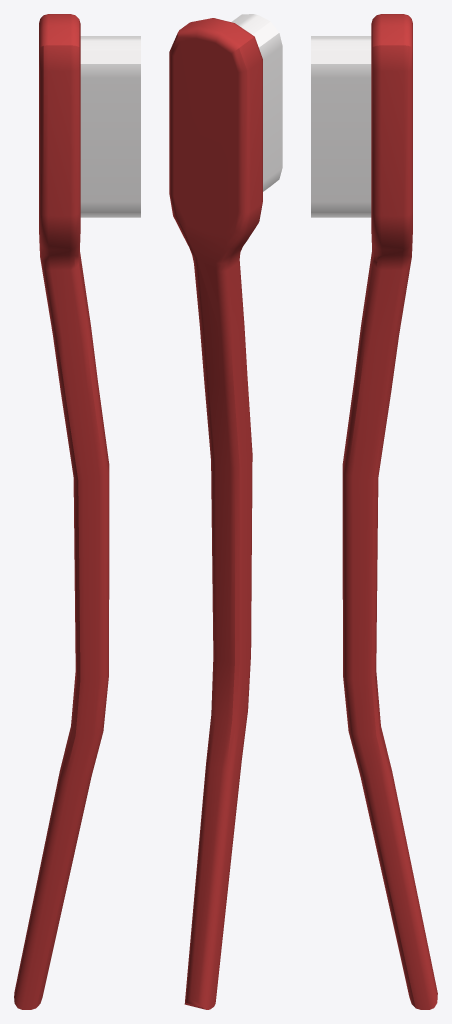
Rendered from cepillo de dientes.fbx.
3 views of the same model, side by side, from view 1: azimuth 90°, elevation 25°; view 2: azimuth 150°, elevation 25°; view 3: azimuth 270°, elevation 25° (orthographic).
Parts seen in each view (by area): view 1: pCube3_lambert7_0, pCube3_lambert8_0; view 2: pCube3_lambert7_0, pCube3_lambert8_0; view 3: pCube3_lambert7_0, pCube3_lambert8_0.
Part boxes in pixels (left/top/right/bottom): pCube3_lambert7_0: left=14, top=14, right=109, bottom=1009; pCube3_lambert8_0: left=80, top=36, right=140, bottom=217; pCube3_lambert7_0: left=169, top=18, right=262, bottom=1009; pCube3_lambert8_0: left=231, top=14, right=282, bottom=191; pCube3_lambert7_0: left=342, top=14, right=437, bottom=1009; pCube3_lambert8_0: left=311, top=36, right=371, bottom=217.
Size of the model in its own units: 5.91 by 68.29 by 7.98.
